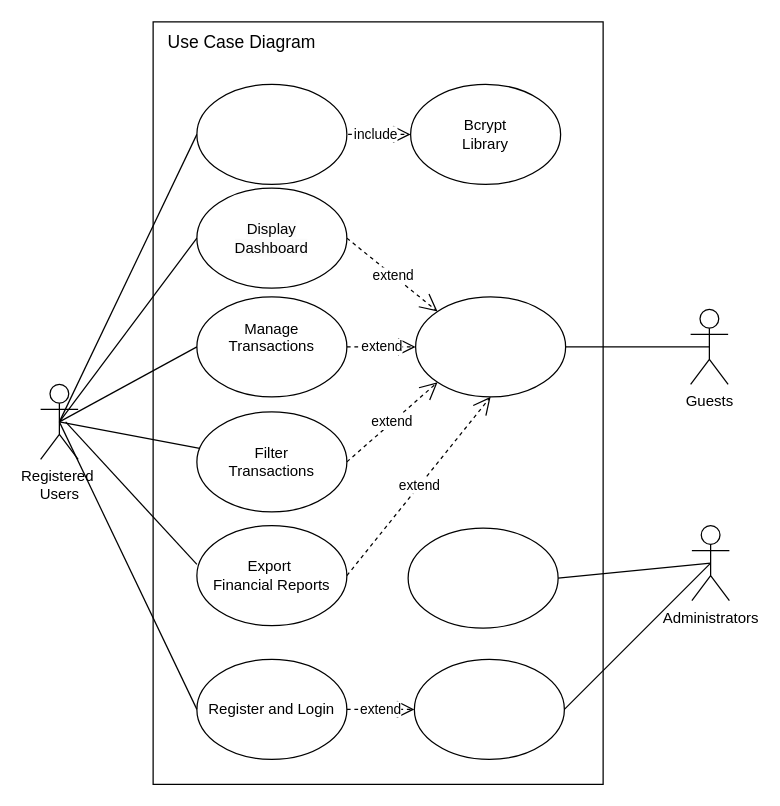
This 780x806 diagram has some shape labels left out. Each missing label, with the box of its shape:
Data Storage: (196, 83, 347, 184)
Demo: (414, 296, 566, 397)
Mange user accounts: (413, 658, 564, 759)
Monitor Platform: (407, 527, 558, 628)
